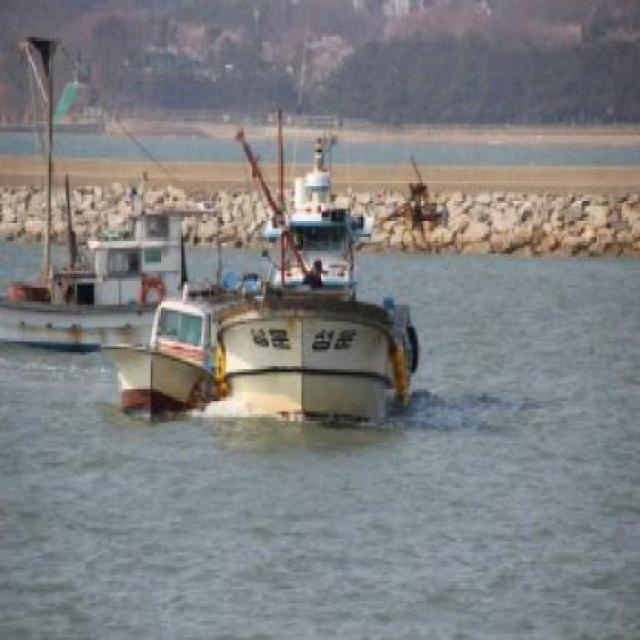fish-b: (223, 176, 429, 443), (1, 198, 232, 362), (93, 294, 221, 426)
